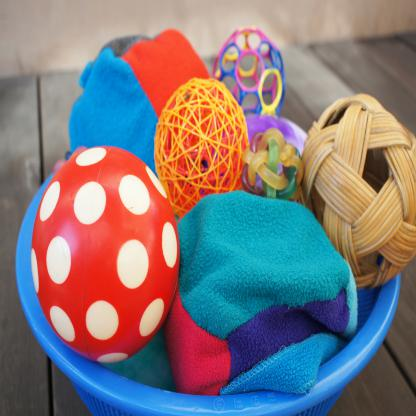Ball: (31, 146, 180, 368), (300, 92, 415, 292), (152, 75, 251, 222), (212, 28, 286, 120)
